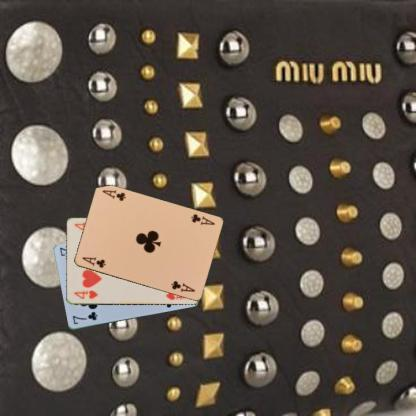4h: (71, 288, 99, 300)
7c: (70, 309, 99, 326)
Ac: (79, 254, 107, 269), (188, 212, 215, 226)
